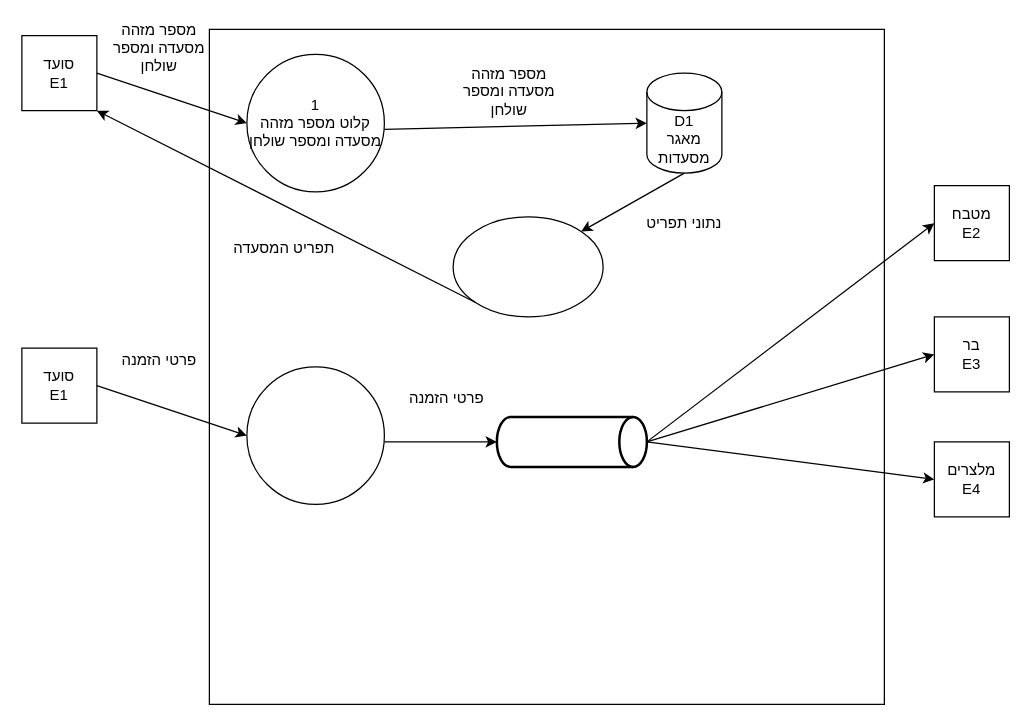
The diagram is 1031 pixels wide and 726 high, and some of its shapes have lost their labels. The shapes that lost their labels are listed below. From the top down, each one's centre as x and y in pixels, then its label:
At pixel 527 266: "2 יצר עמוד תפריט מנתוני המסעדה".
At pixel 315 435: "1 קלוט פרטי הזמנה".
At pixel 571 441: "ברוקר הודעות".
